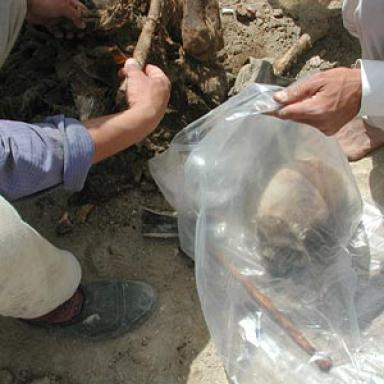plasticbag: (132, 79, 384, 384)
